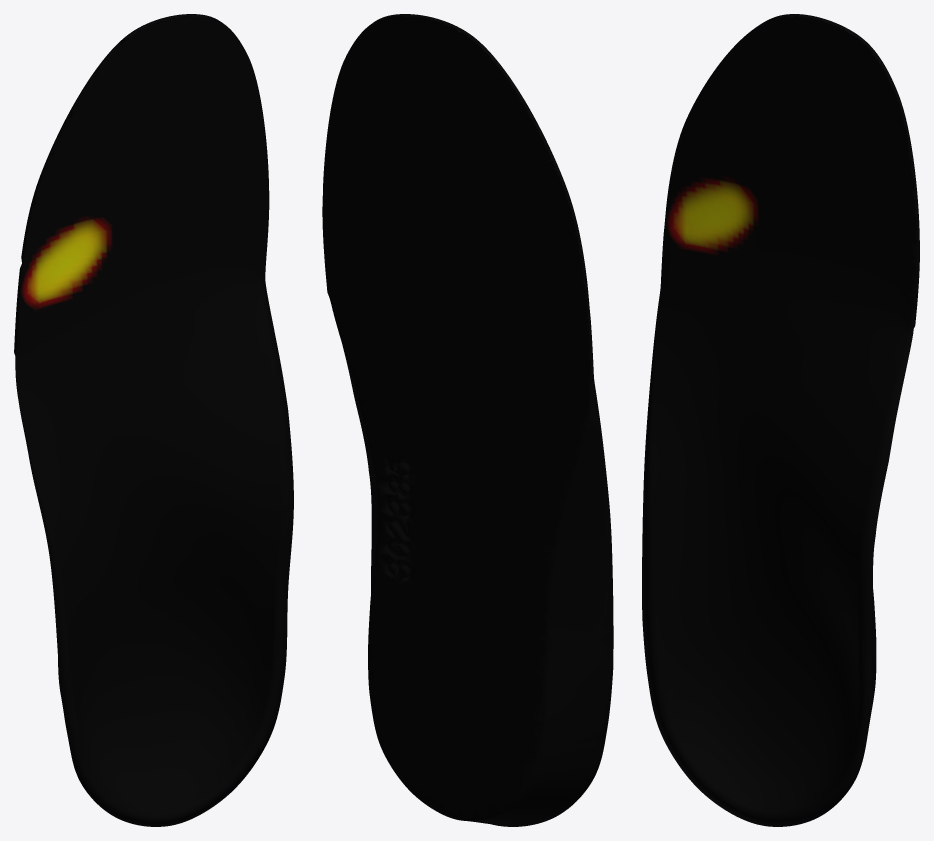
File: PAIR-OFFLOAD-4TH-5TH_LEFT.glb
The picture shows the model from 3 angles, left to right: view 1: azimuth 30°, elevation 25°; view 2: azimuth 150°, elevation 25°; view 3: azimuth 330°, elevation 25°; orthographic projection. The views are drawn at different scales.
Visible parts, largest first — view 1: geometry_0; view 2: geometry_0; view 3: geometry_0.
Boxes of the visible parts, x1,y1,x2,y2 form: geometry_0: [14, 14, 293, 826]; geometry_0: [322, 14, 613, 826]; geometry_0: [642, 14, 919, 826].
Bounding box in the file's own units: 109 × 318 × 27.45.
